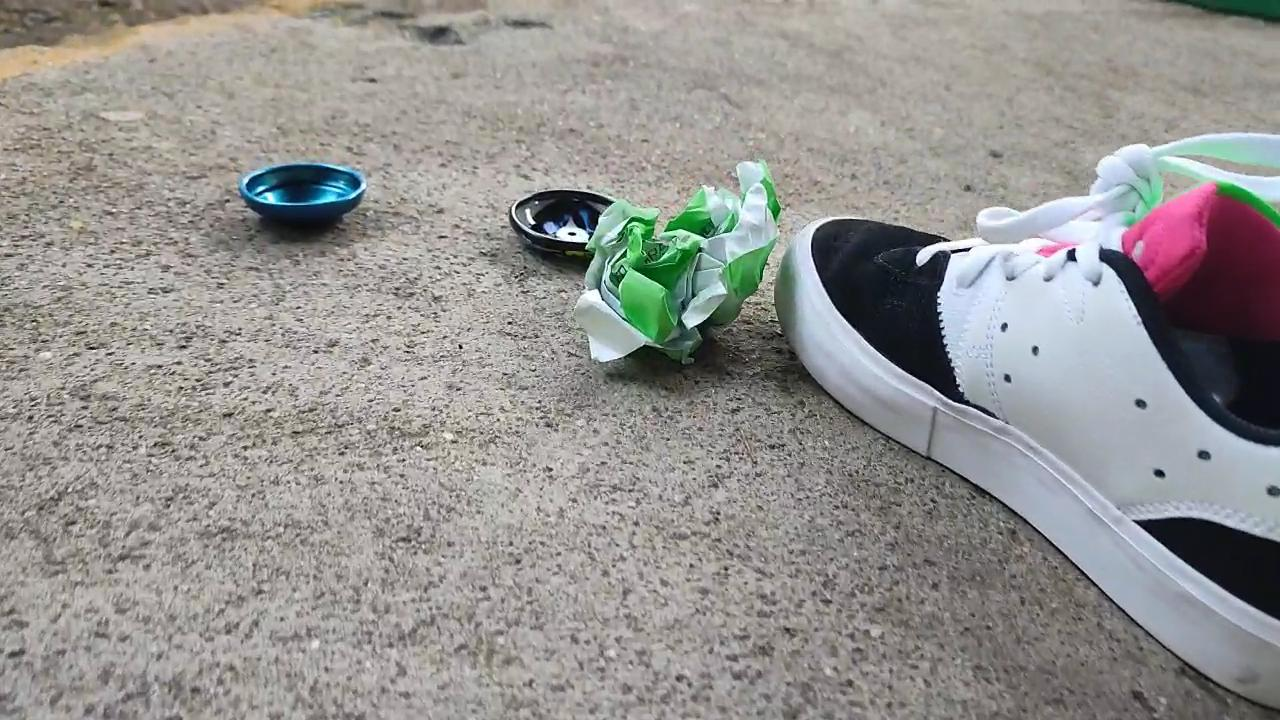Paper: (581, 134, 786, 379)
